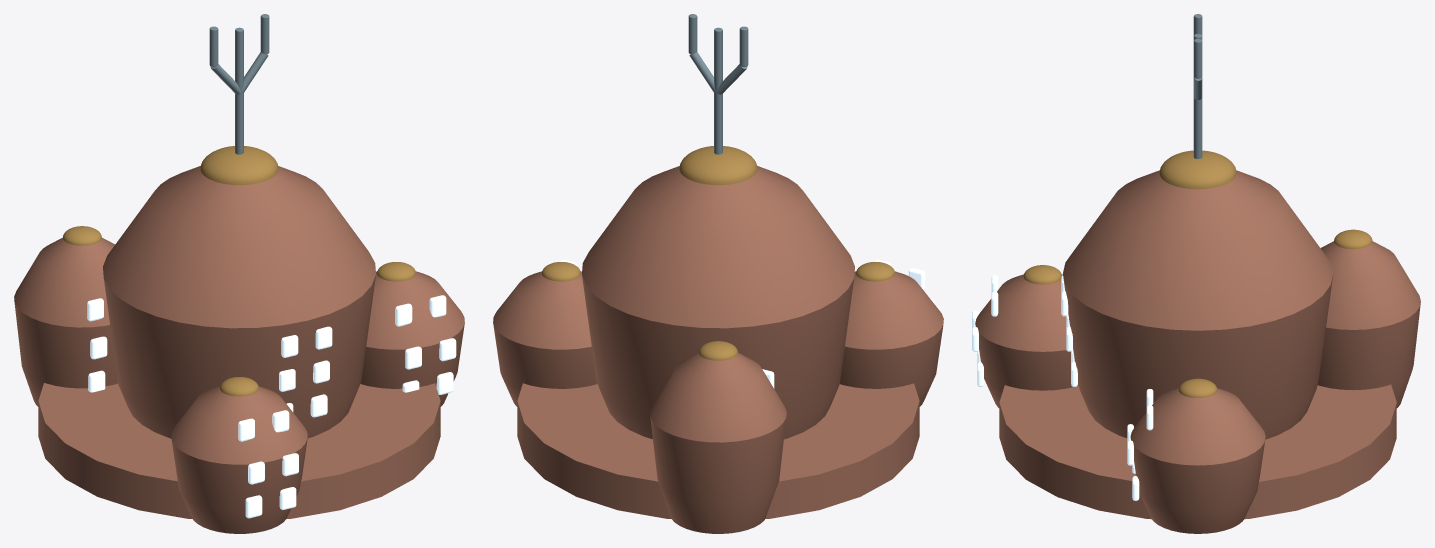
3 views of the same model, side by side, from view 1: azimuth 30°, elevation 25°; view 2: azimuth 150°, elevation 25°; view 3: azimuth 270°, elevation 25° (orthographic).
Visible parts, largest first — view 1: Bulb shaped chamber, Foundation drum, Bulb shaped chamber.003, Bulb shaped chamber.002, Bulb shaped chamber.001, Tower crown, Aerial stem, Tower crown.002, Tower crown.003, Tower crown.001; view 2: Bulb shaped chamber, Foundation drum, Bulb shaped chamber.002, Bulb shaped chamber.003, Bulb shaped chamber.001, Tower crown, Aerial stem, Tower crown.002, Tower crown.003, Tower crown.001; view 3: Bulb shaped chamber, Foundation drum, Bulb shaped chamber.001, Bulb shaped chamber.002, Bulb shaped chamber.003, Tower crown, Aerial stem, Tower crown.003, Tower crown.002, Tower crown.001.
Part boxes in pixels (<box>): Bulb shaped chamber: <box>103,166,375,438</box>; Foundation drum: <box>38,383,440,518</box>; Bulb shaped chamber.003: <box>171,386,307,533</box>; Bulb shaped chamber.002: <box>14,237,117,406</box>; Bulb shaped chamber.001: <box>360,271,464,406</box>; Tower crown: <box>200,146,278,184</box>; Aerial stem: <box>235,27,243,154</box>; Tower crown.002: <box>63,226,101,245</box>; Tower crown.003: <box>220,377,258,396</box>; Tower crown.001: <box>377,262,415,281</box>; Bulb shaped chamber: <box>582,166,854,439</box>; Foundation drum: <box>517,383,919,518</box>; Bulb shaped chamber.002: <box>650,352,786,533</box>; Bulb shaped chamber.003: <box>840,271,943,406</box>; Bulb shaped chamber.001: <box>493,271,597,406</box>; Tower crown: <box>679,146,757,184</box>; Aerial stem: <box>714,27,722,154</box>; Tower crown.002: <box>699,341,737,360</box>; Tower crown.003: <box>856,262,894,281</box>; Tower crown.001: <box>542,262,580,281</box>; Bulb shaped chamber: <box>1063,170,1333,439</box>; Foundation drum: <box>999,384,1396,519</box>; Bulb shaped chamber.001: <box>1130,388,1265,533</box>; Bulb shaped chamber.002: <box>1317,241,1420,408</box>; Bulb shaped chamber.003: <box>975,274,1078,407</box>; Tower crown: <box>1159,150,1236,189</box>; Aerial stem: <box>1193,33,1202,158</box>; Tower crown.003: <box>1023,265,1061,284</box>; Tower crown.002: <box>1334,229,1372,249</box>; Tower crown.001: <box>1179,378,1217,397</box>.
Bounding box in the file's own units: 2.29 × 2.32 × 2.3.
